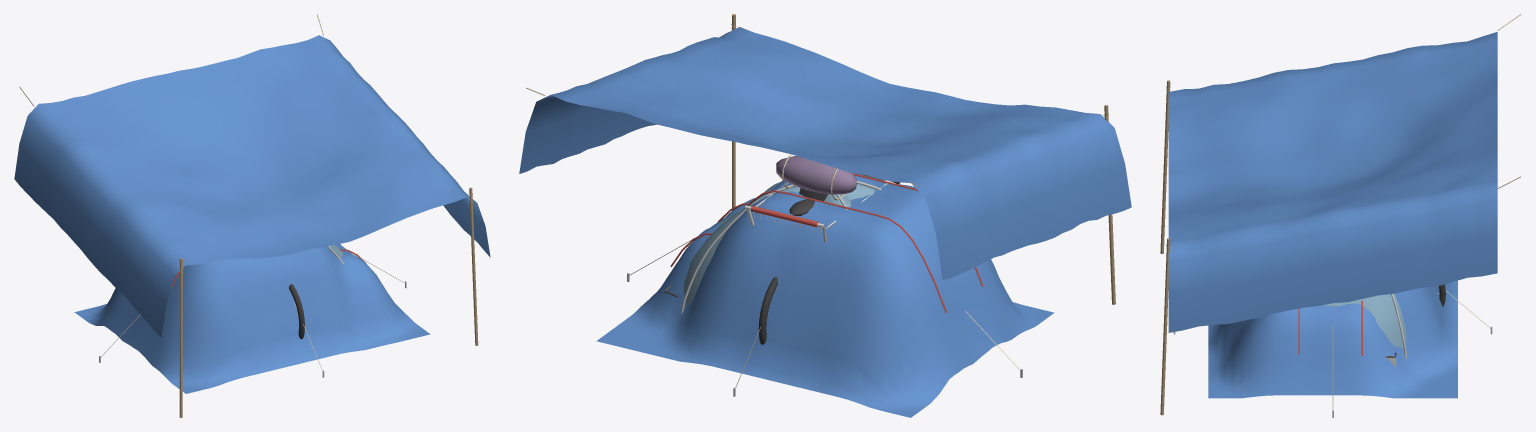
File: encampment_kit.glb
3 renders of one model, left to right at view 1: azimuth 30°, elevation 25°; view 2: azimuth 150°, elevation 25°; view 3: azimuth 270°, elevation 25°, orthographic. The views are drawn at different scales.
Parts seen in each view (by area): view 1: camp_tarp_canopy, camp_tarp_mound; view 2: camp_tarp_canopy, camp_tarp_mound, camp_tent_dome, camp_loaded_cart, camp_bicycle, camp_cart; view 3: camp_tarp_canopy, camp_tarp_mound, camp_tent_dome.
Part boxes in pixels (x1,y1,x2,y2): camp_tarp_canopy: (14,14,490,417); camp_tarp_mound: (74,244,430,393); camp_tarp_canopy: (519,14,1131,304); camp_tarp_mound: (596,173,1054,417); camp_tent_dome: (627,181,1022,396); camp_loaded_cart: (776,154,884,201); camp_bicycle: (758,181,900,344); camp_cart: (744,180,895,242); camp_tarp_canopy: (1160,14,1521,415); camp_tarp_mound: (1208,280,1457,398); camp_tent_dome: (1173,290,1492,417).
Bounding box in the file's own units: 3.23 × 2.03 × 2.75.
